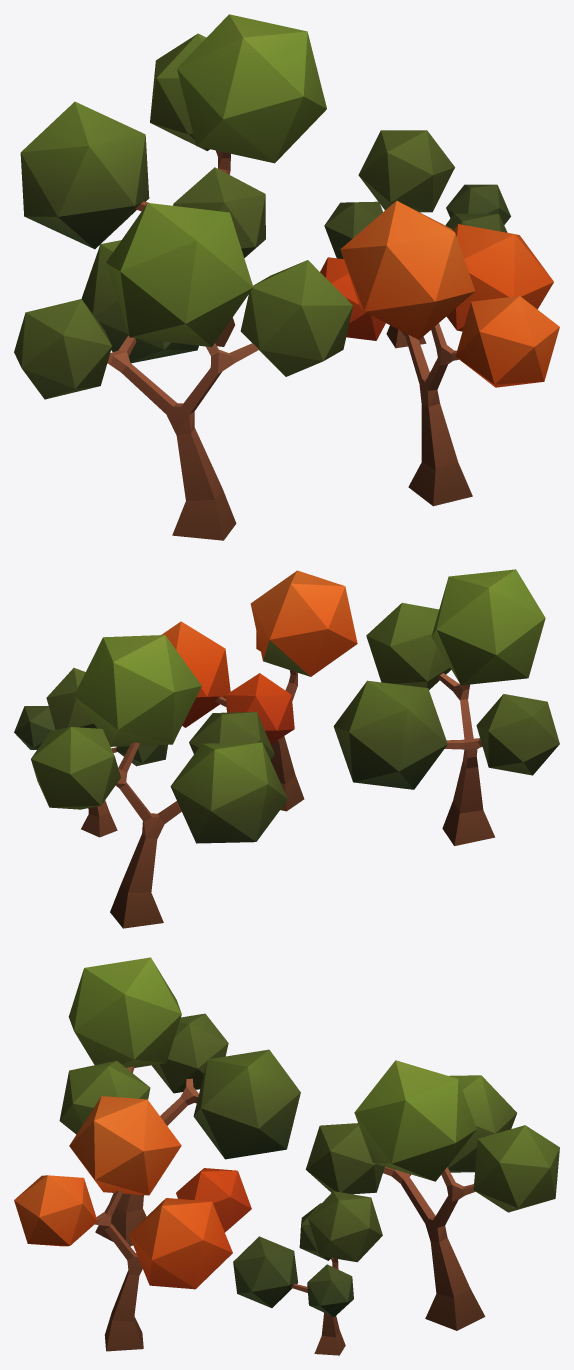
Rendered from tree.glb.
3 renders of one model, top to bottom at view 1: azimuth 30°, elevation 25°; view 2: azimuth 150°, elevation 25°; view 3: azimuth 270°, elevation 25°, orthographic. The views are drawn at different scales.
Visible parts, largest first — view 1: tree; view 2: tree; view 3: tree.
Part boxes in pixels (<box>): tree: <box>14,14,559,540</box>; tree: <box>14,569,559,928</box>; tree: <box>14,957,559,1355</box>.
Size of the model in its own units: 1.76 by 1.01 by 1.8.
1 material, 1 textured.
